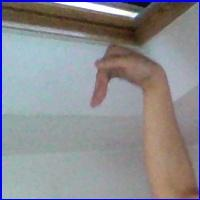del: (85, 38, 167, 114)
